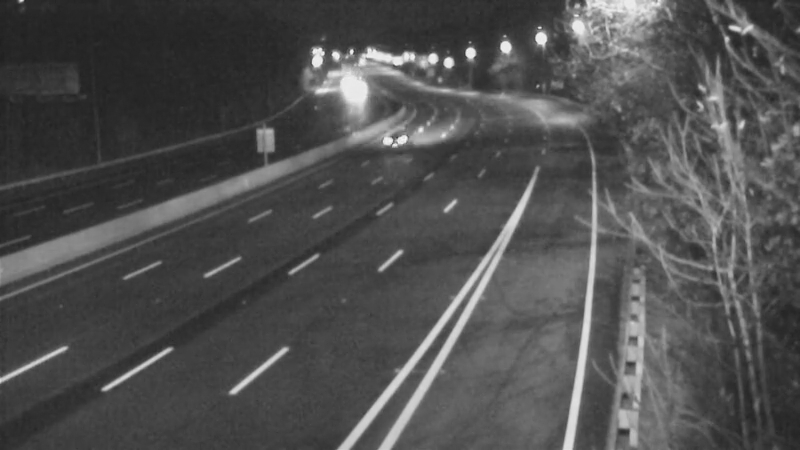vehicle: (373, 112, 423, 162), (326, 67, 376, 117)
